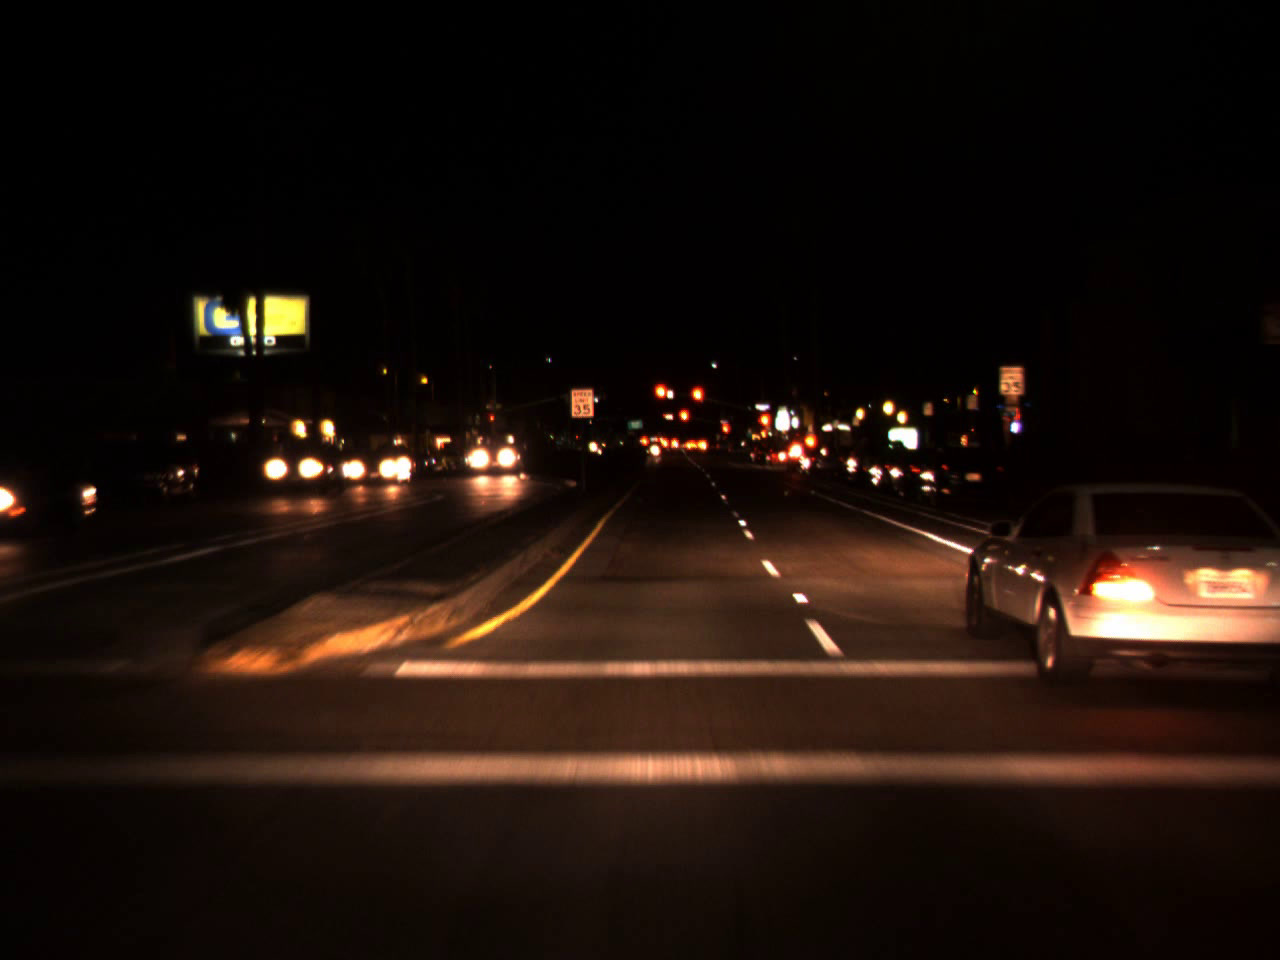stop: (653, 380, 671, 417), (756, 410, 772, 447), (689, 385, 707, 417), (677, 407, 690, 434), (721, 422, 730, 438), (489, 415, 495, 425)
